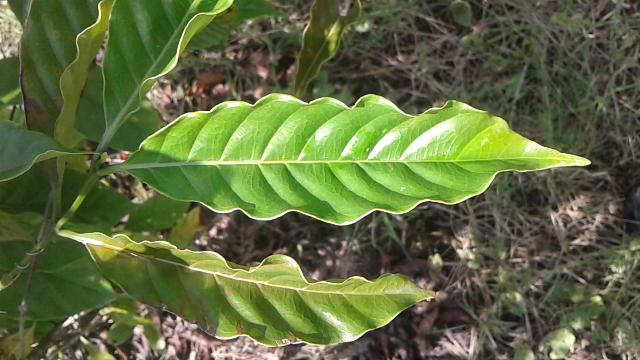healthy: (119, 92, 598, 226)
